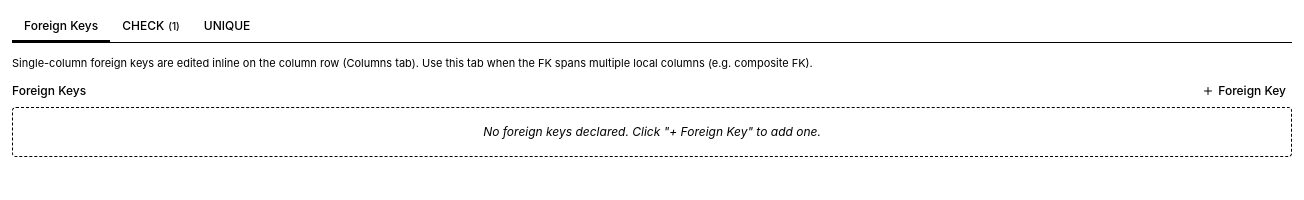
ForeignKeysTabBody › CHECK row renders name + expression inputs
The width and height of the screenshot is (1304, 200).
Click the tab "CHECK(1)" at (151, 27), box [110,12,192,42]
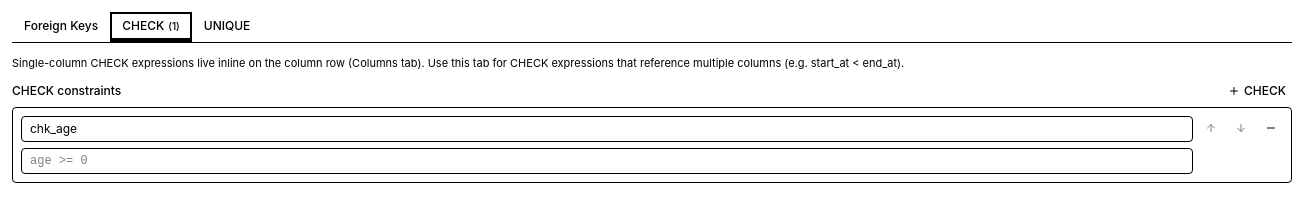
expect the field named "Check name" is shown: met, box [21,116,1193,142]
expect the field named "Check expression" is shown: met, box [21,148,1193,174]
